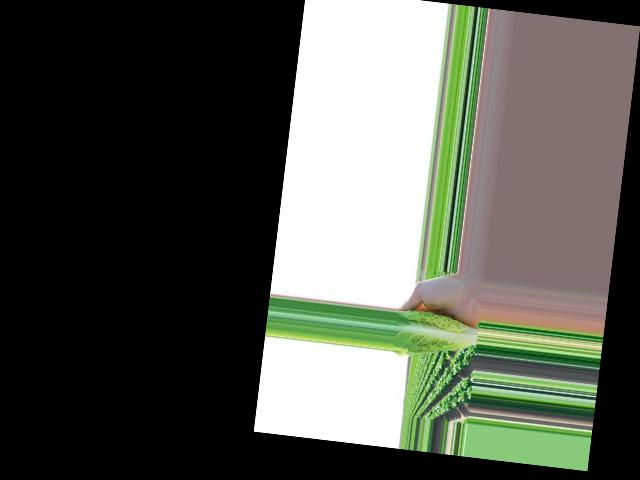lettuce: (406, 271, 507, 390)
